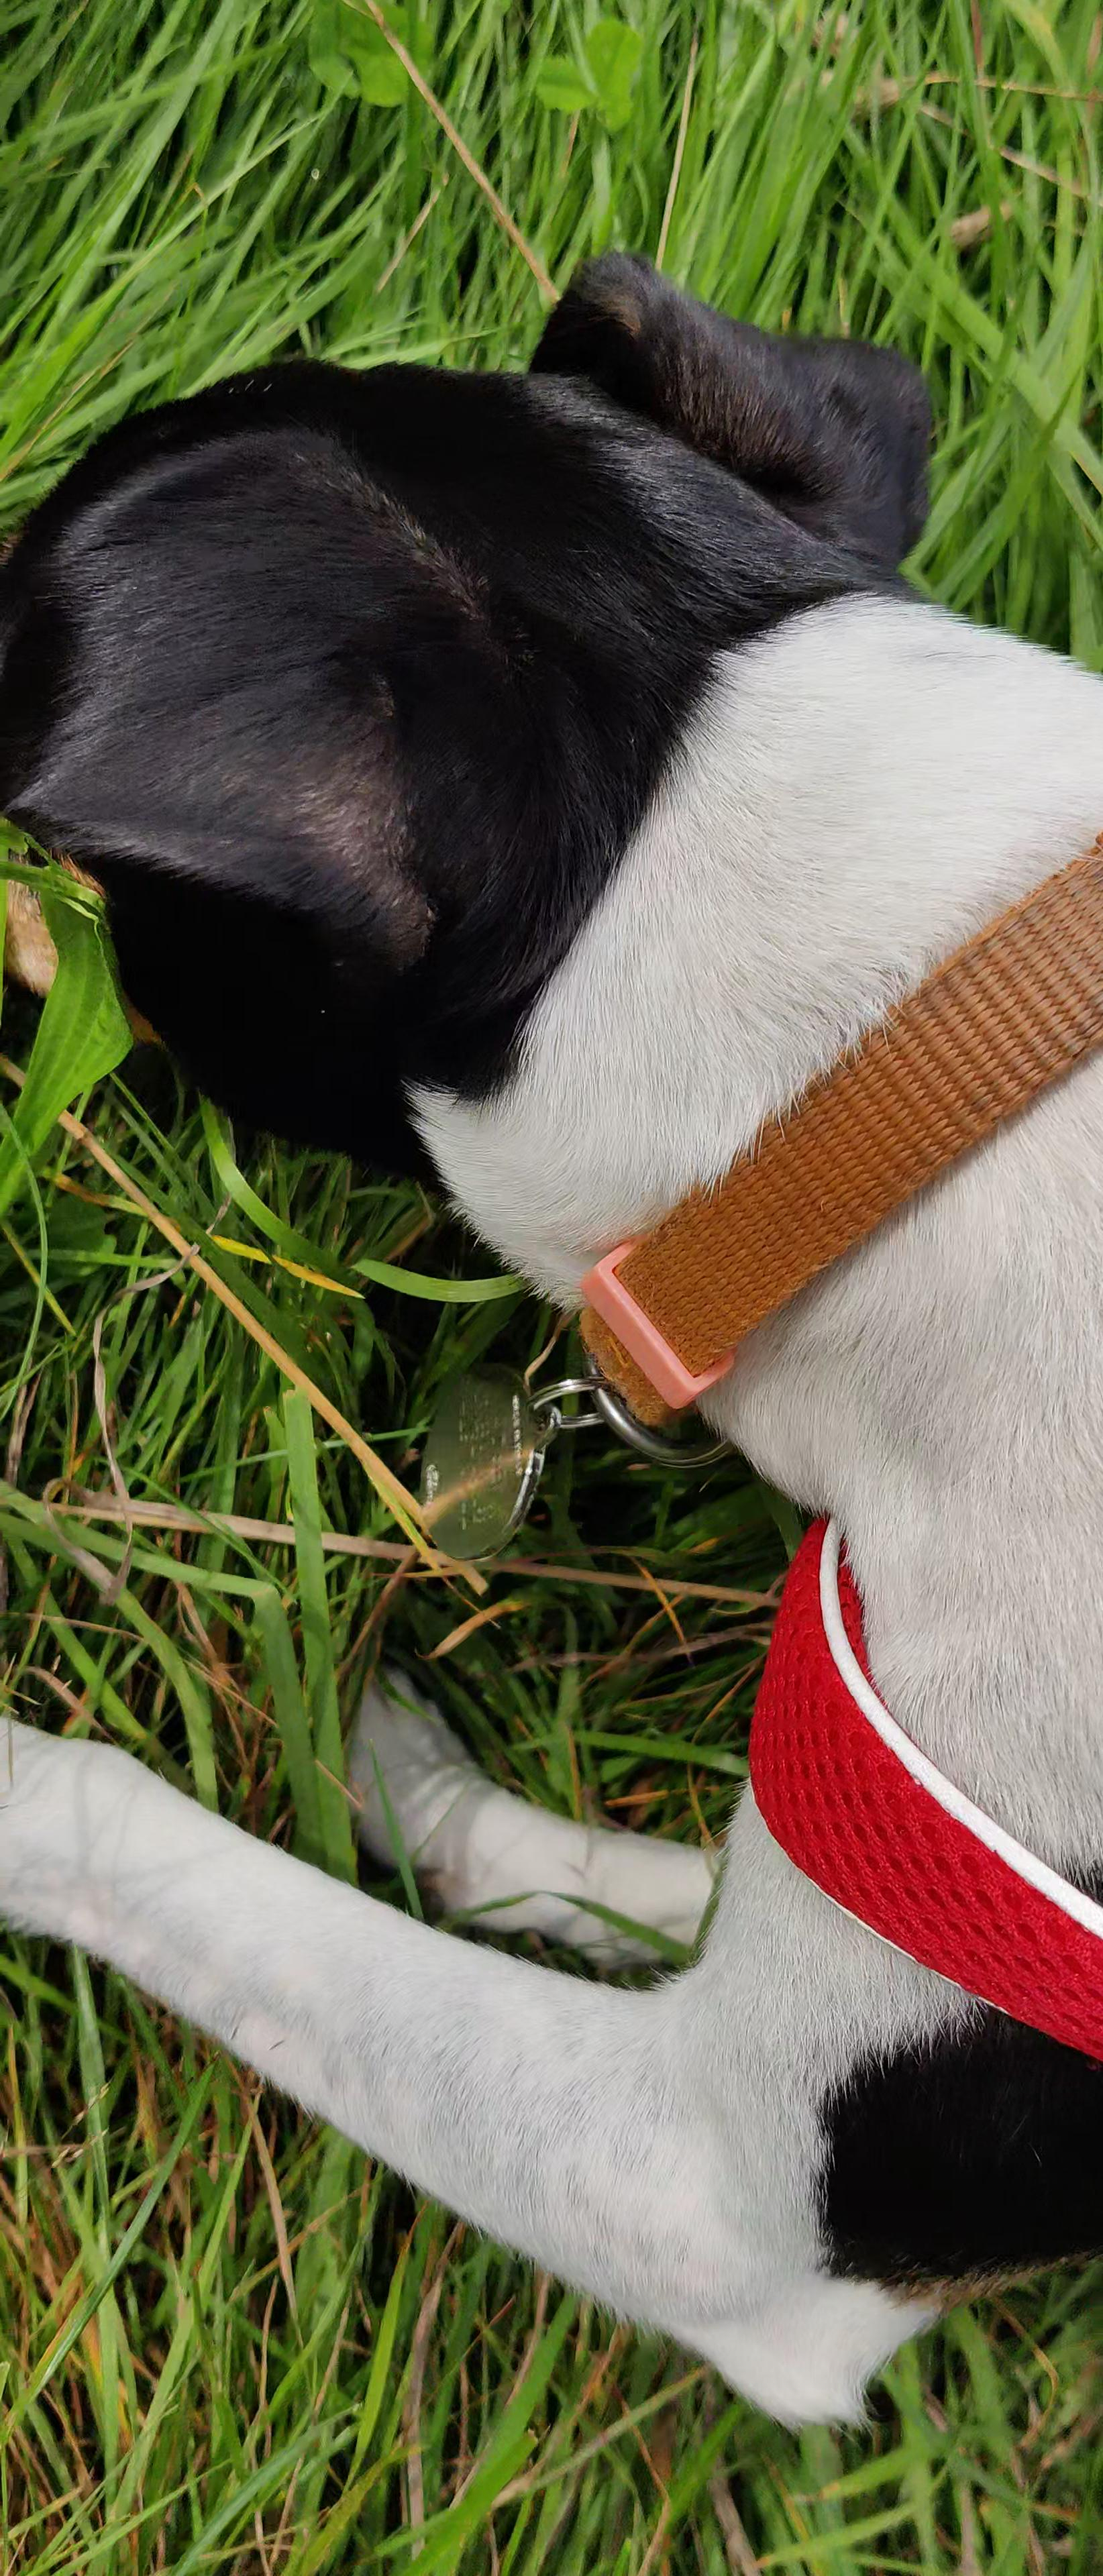Dog: (0, 189, 1103, 2477)
